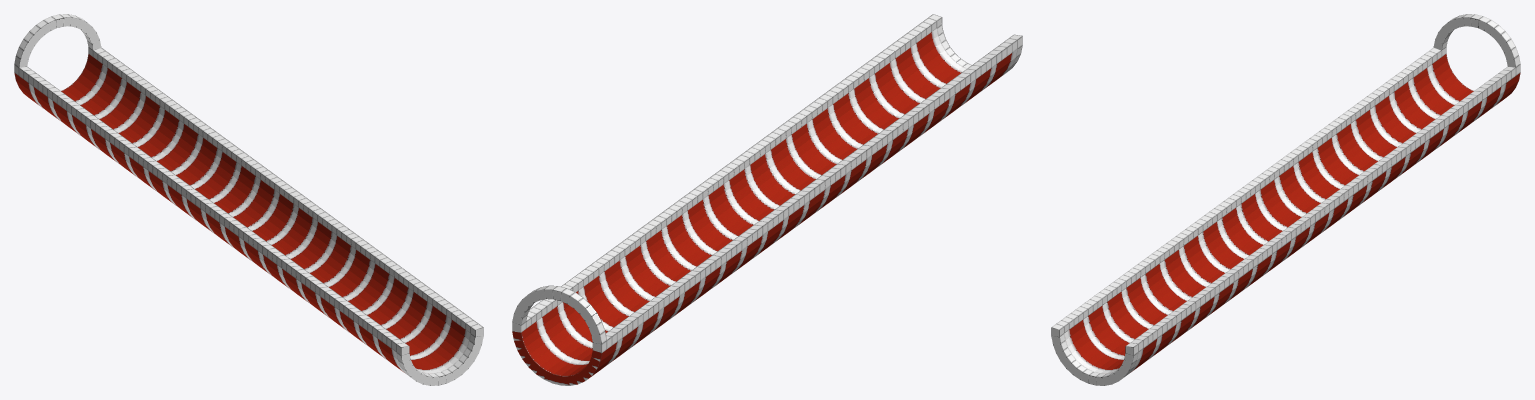
Rendered from pipe0.dae.
3 views of the same model, side by side, from view 1: azimuth 30°, elevation 25°; view 2: azimuth 150°, elevation 25°; view 3: azimuth 330°, elevation 25° (orthographic). The views are drawn at different scales.
Visible parts, largest first — view 1: pipe0; view 2: pipe0; view 3: pipe0.
Boxes of the visible parts, x1=… form: pipe0: x1=14, y1=14, x2=483, y2=385; pipe0: x1=512, y1=14, x2=1022, y2=385; pipe0: x1=1051, y1=14, x2=1520, y2=385.
Size of the model in its own units: 4.98 by 40.5 by 4.98.
